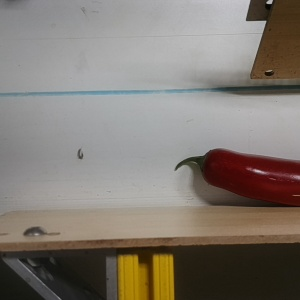Cut Point: (193, 148, 222, 181)
